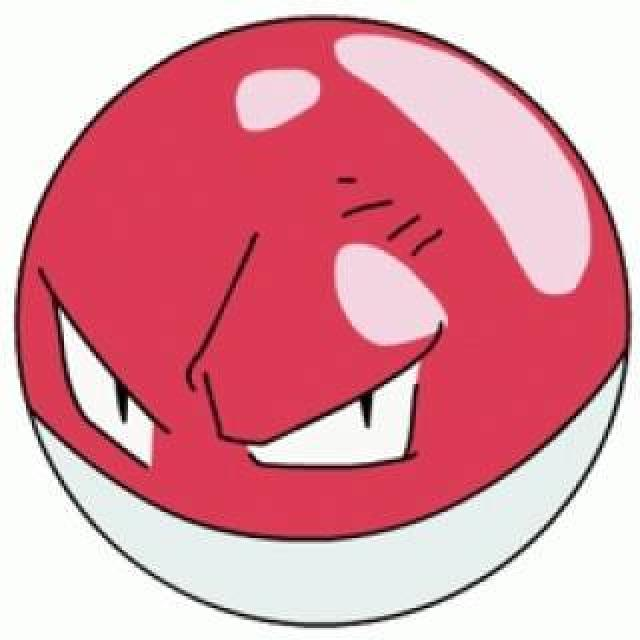Voltorb: (15, 17, 632, 623)
